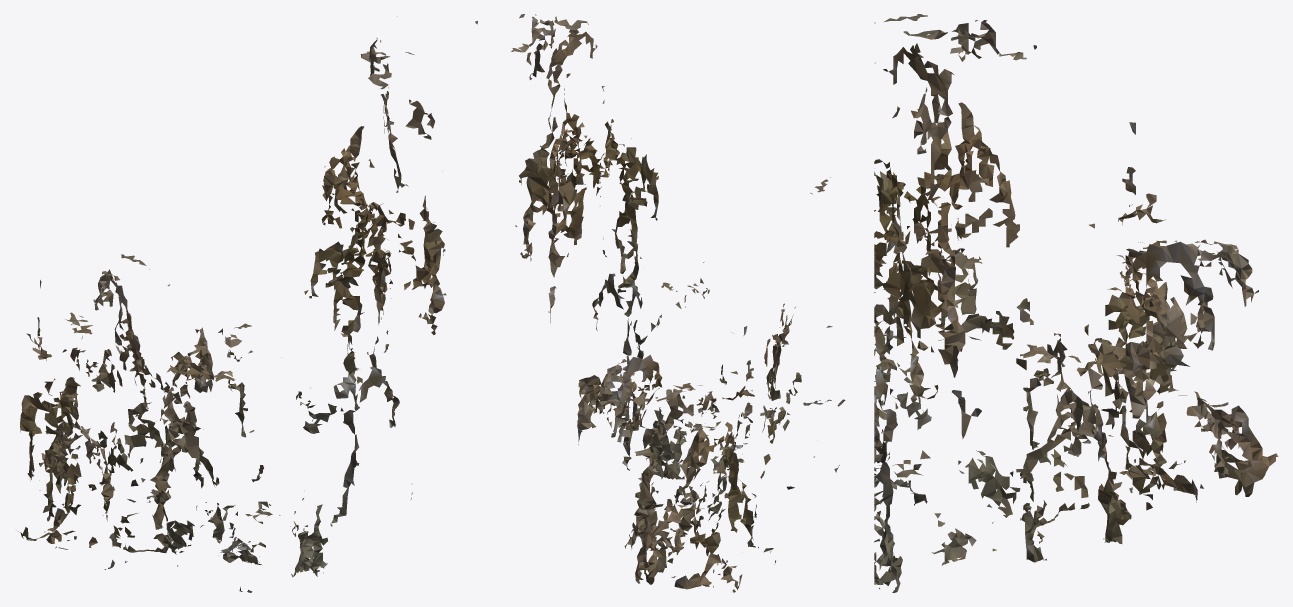
Rendered from coarse.glb.
3 views of the same model, side by side, from view 1: azimuth 30°, elevation 25°; view 2: azimuth 150°, elevation 25°; view 3: azimuth 270°, elevation 25° (orthographic). The views are drawn at different scales.
Size of the model in its own units: 2.57 by 3.6 by 2.1.
